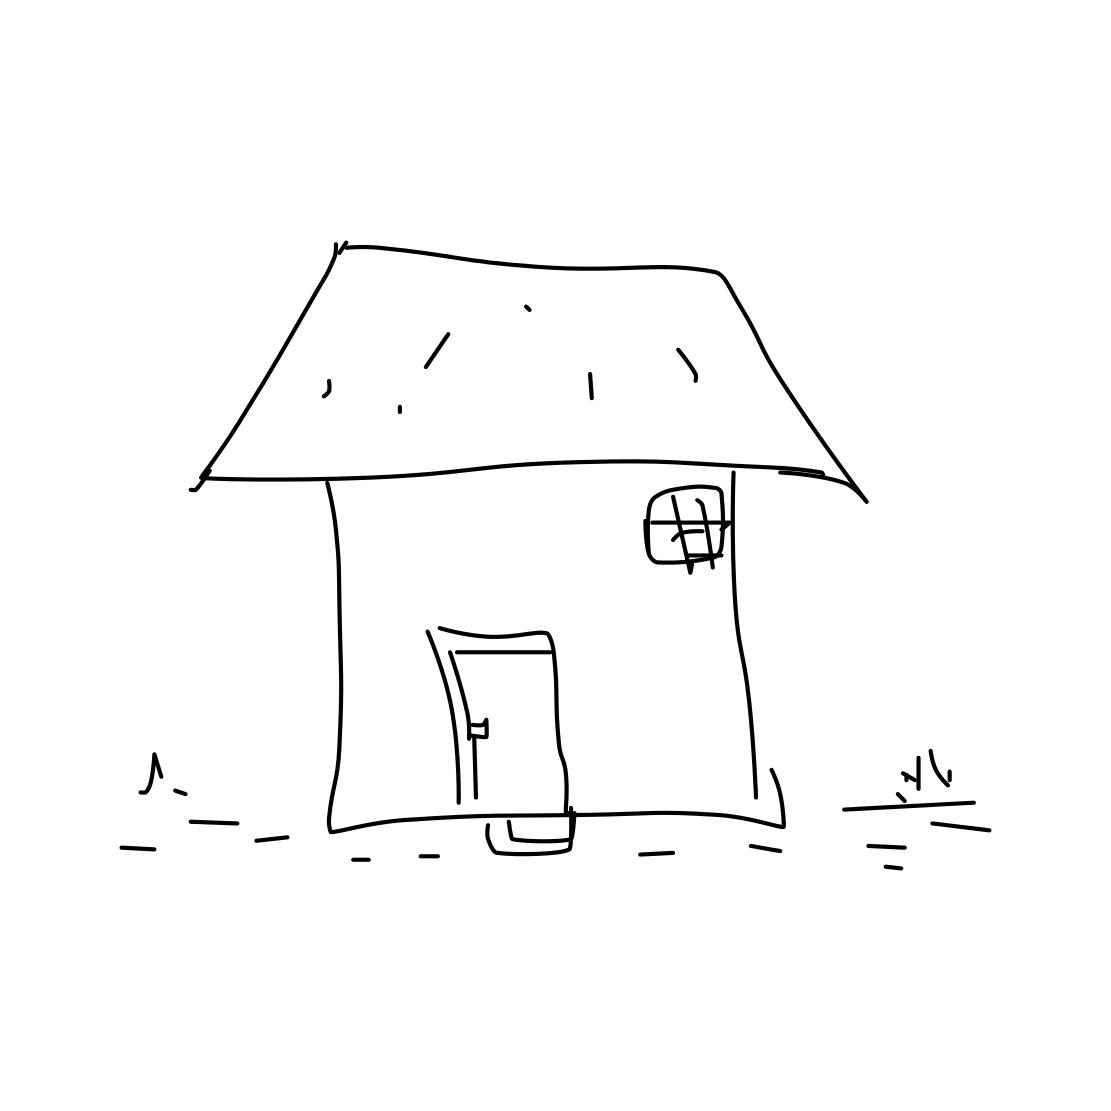House: (160, 184, 875, 844)
